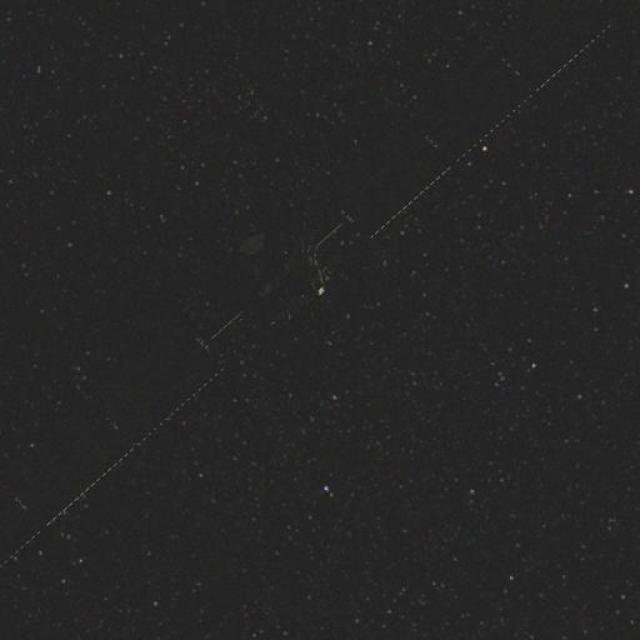smart_1: (120, 126, 462, 378)
